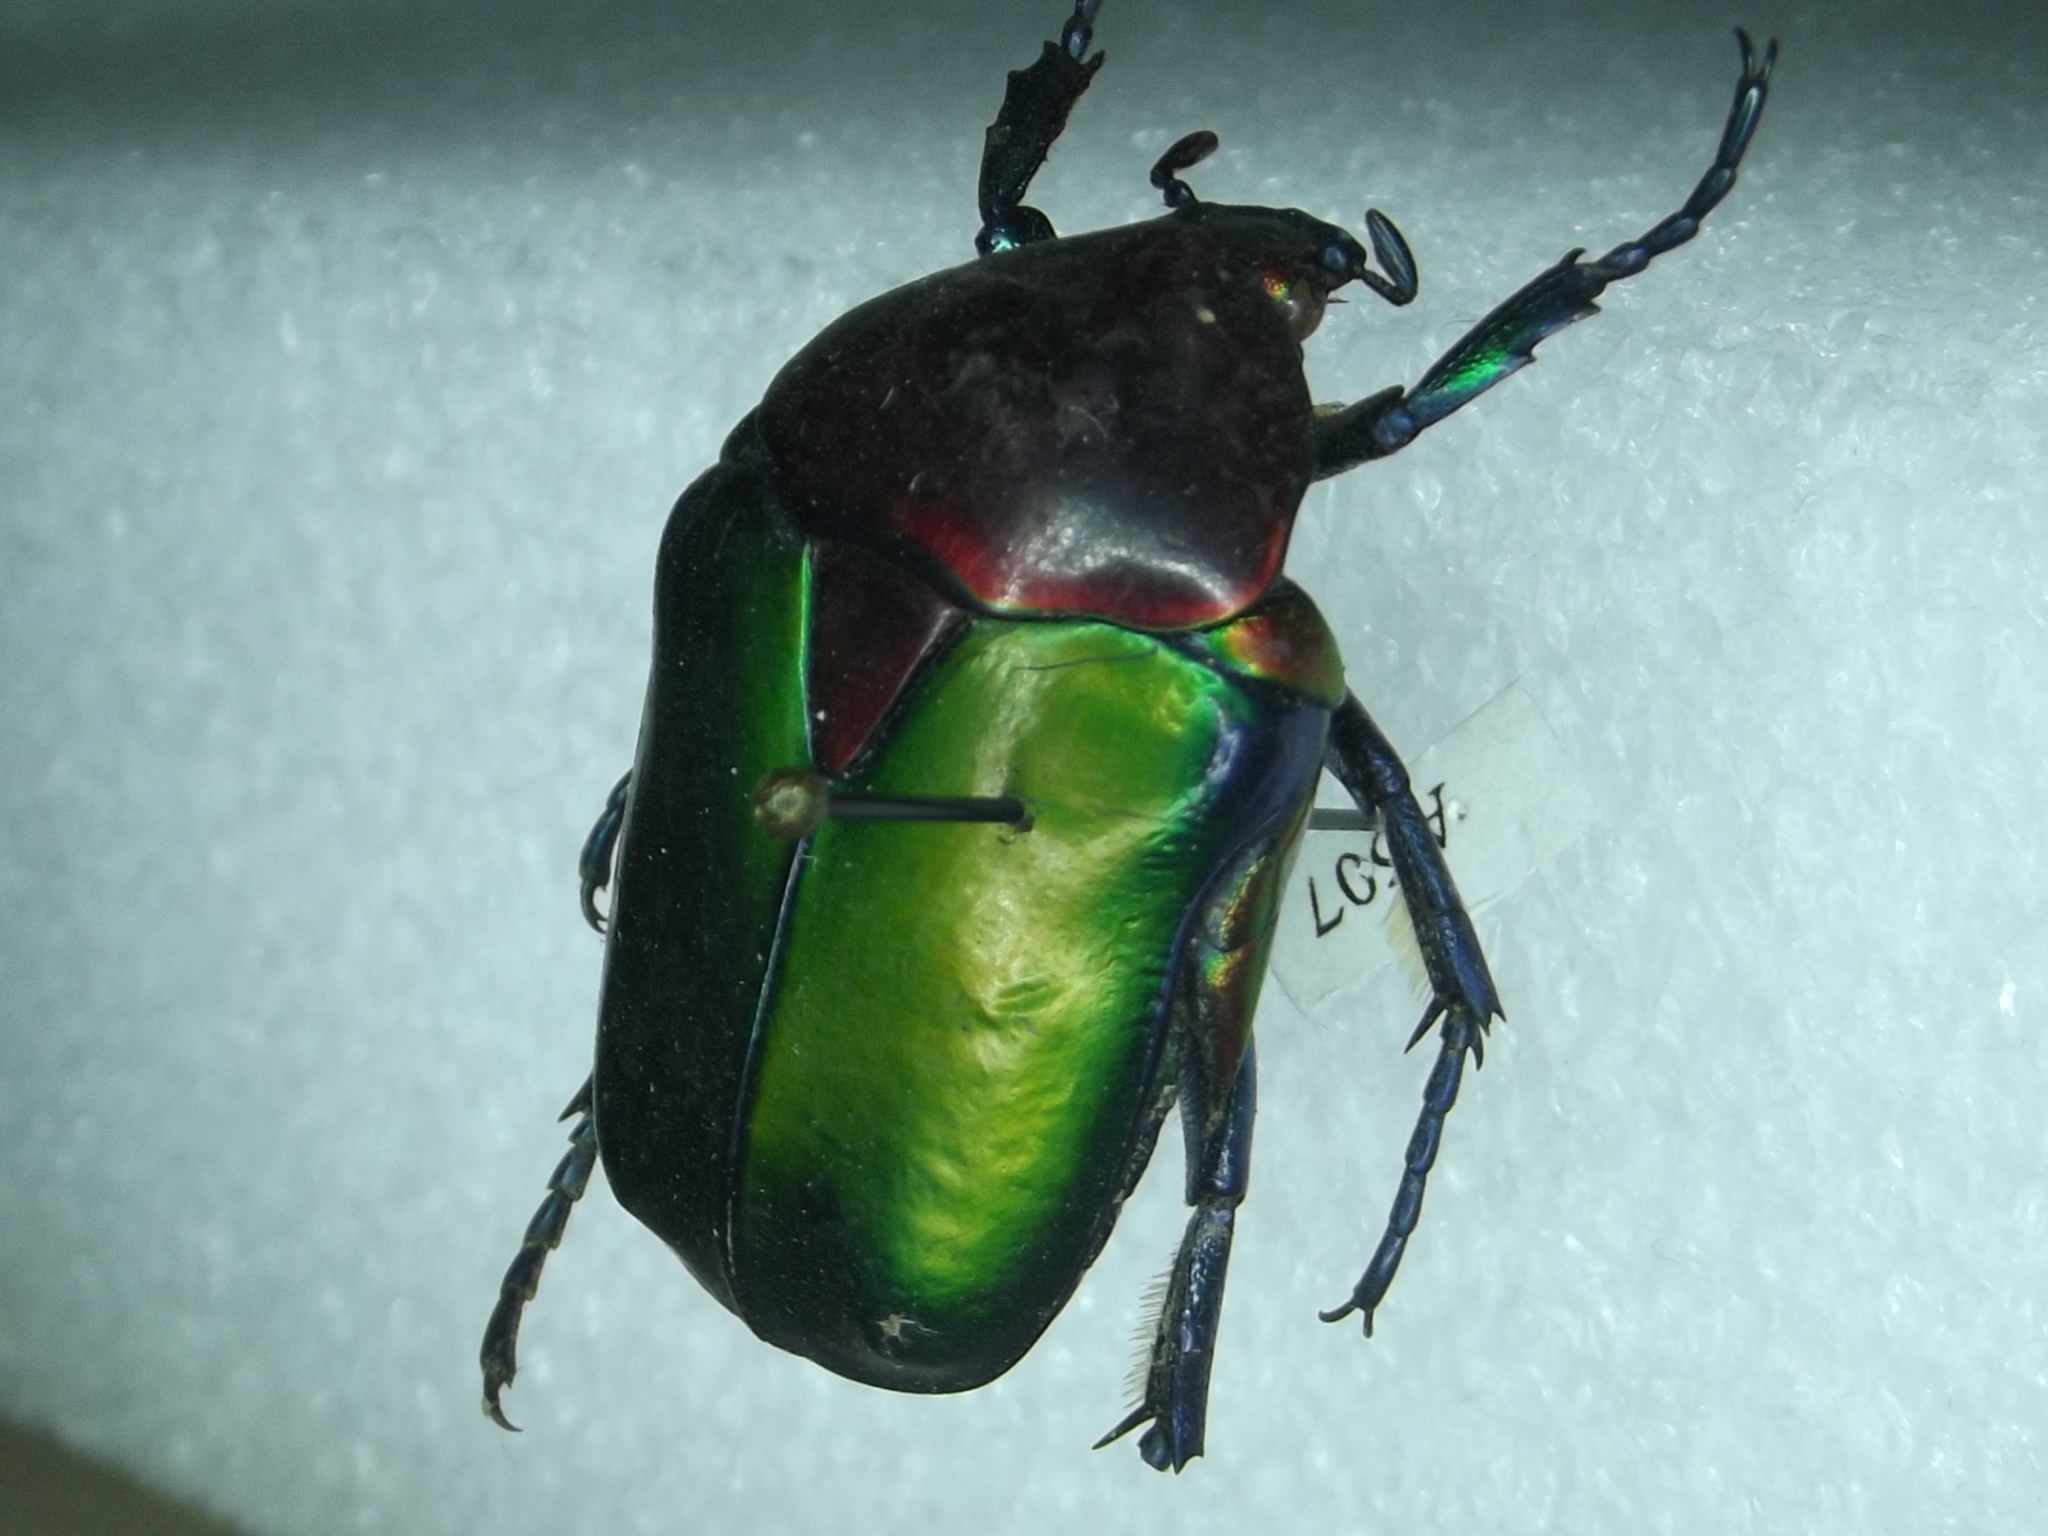Protaetia_speciosa_jousselini: (448, 2, 1804, 1470)
